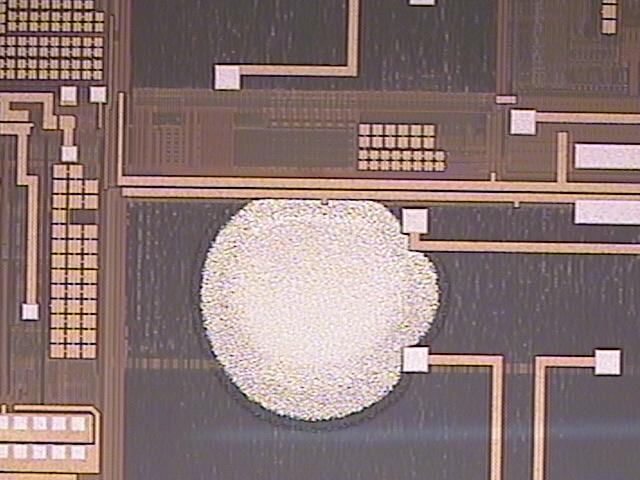BLOCK ETCH: (188, 184, 457, 434)
